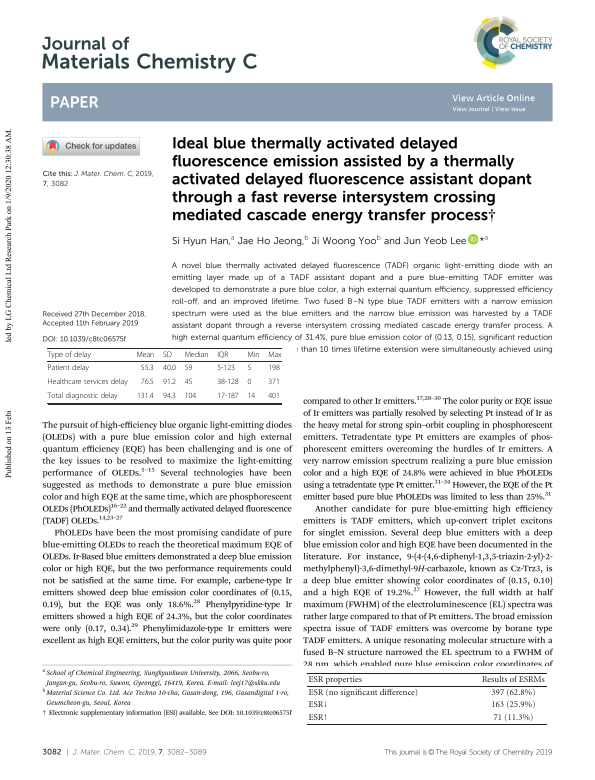borderless: (46, 347, 281, 403), (305, 671, 547, 724)
cell: (307, 688, 419, 698), (47, 378, 129, 388), (47, 392, 119, 402), (481, 675, 546, 685), (307, 675, 363, 685), (492, 712, 534, 723), (490, 688, 536, 698), (490, 700, 536, 710), (47, 364, 90, 374), (47, 351, 92, 360), (307, 712, 329, 723), (216, 378, 240, 388), (216, 392, 240, 402), (184, 351, 209, 360), (307, 700, 329, 710), (216, 364, 236, 374), (136, 392, 155, 402), (135, 351, 155, 360), (140, 364, 155, 374), (162, 364, 177, 374), (140, 378, 155, 388), (162, 378, 177, 388), (162, 392, 177, 402), (267, 364, 281, 374), (267, 378, 281, 388), (267, 392, 281, 402), (267, 351, 282, 360), (184, 392, 197, 402), (246, 351, 260, 360), (216, 351, 229, 360), (246, 392, 256, 402), (162, 351, 173, 360), (184, 364, 193, 374), (184, 378, 193, 388), (246, 364, 252, 374), (246, 378, 252, 388)
